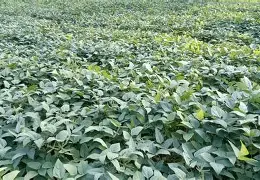crops: (0, 0, 256, 178), (197, 2, 260, 40), (105, 1, 173, 32), (143, 68, 200, 104), (150, 31, 210, 56), (28, 0, 88, 24), (58, 55, 84, 75), (160, 117, 187, 136), (16, 86, 39, 104), (53, 38, 73, 57)
